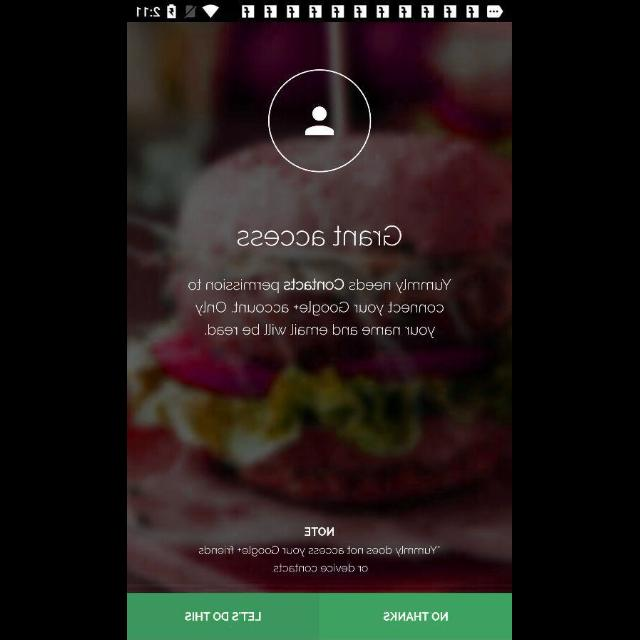backgroundimage: (128, 23, 512, 593)
image: (268, 70, 372, 174)
text: (188, 278, 452, 339), (199, 546, 441, 572), (238, 225, 402, 247), (305, 527, 335, 537)
textbutton: (128, 592, 320, 640), (320, 592, 512, 640)
uppertaskbar: (128, 1, 512, 23)
